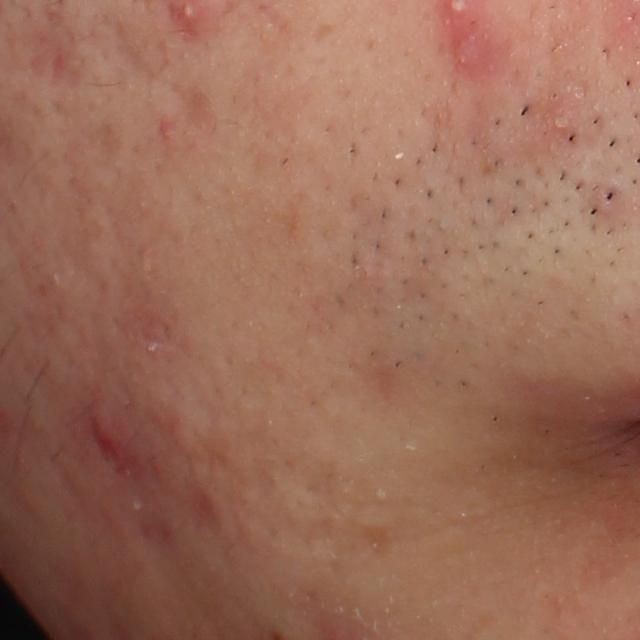atrophic_scar: (166, 79, 223, 141), (111, 20, 160, 83)
papule: (84, 410, 129, 474)
